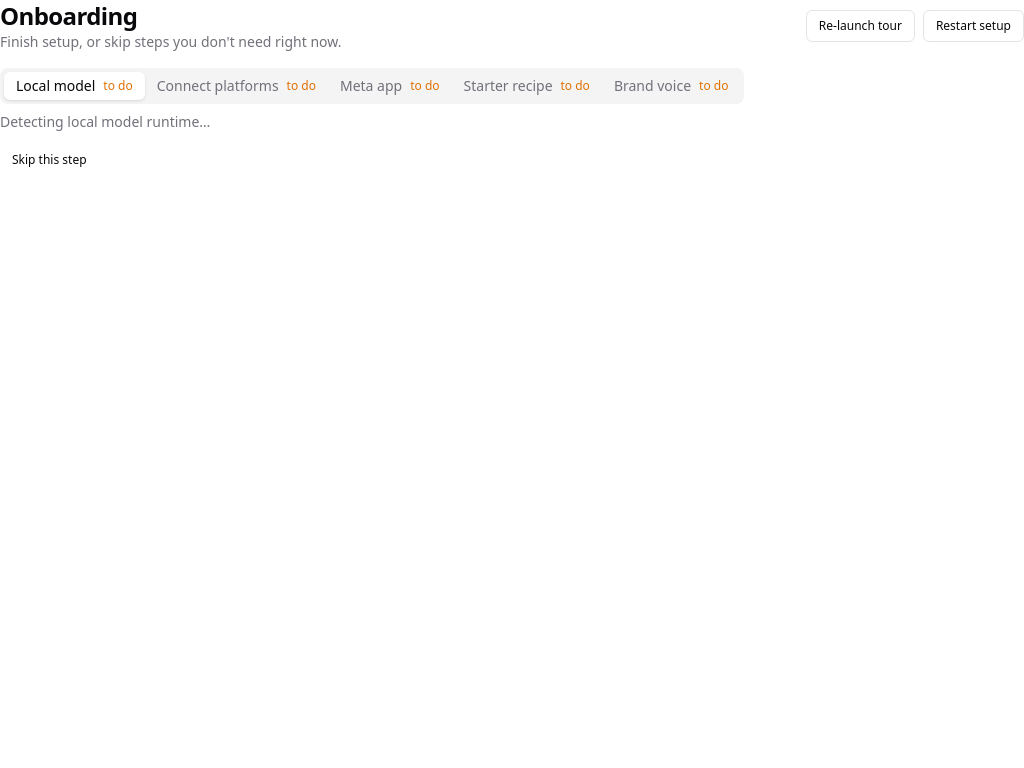
OnboardingPanel › re-renders a dismissed tour overlay after re-launching the tour
Click the button "Re-launch tour" at (860, 26), box [806,10,915,42]
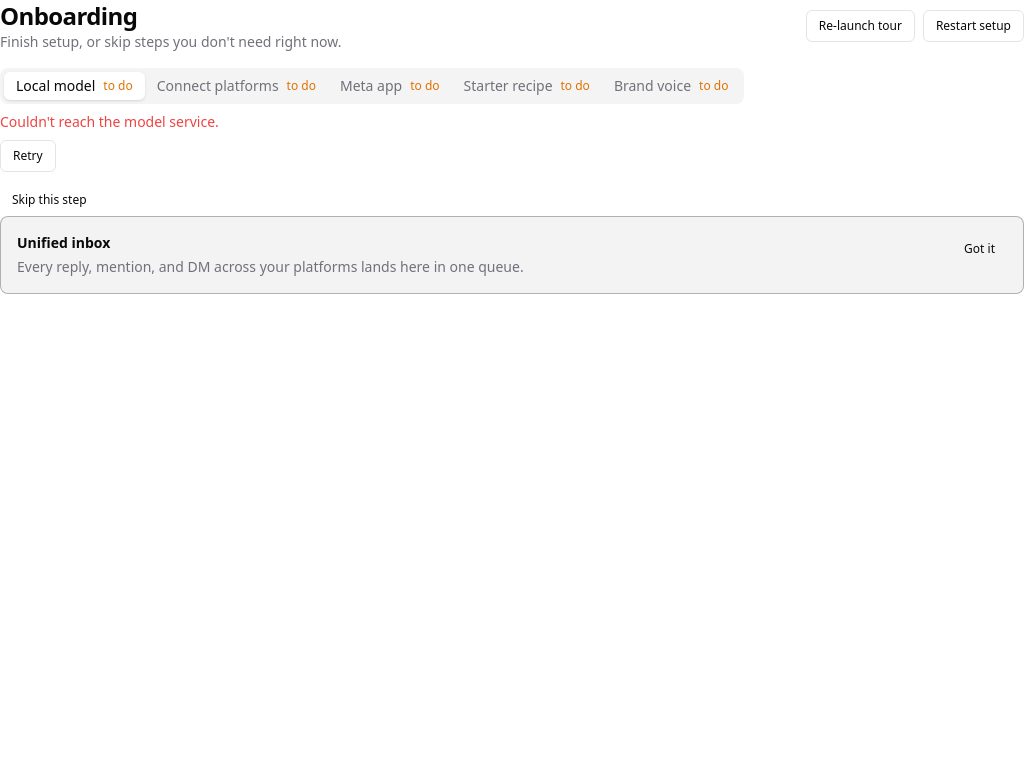
Result: the dialog named "inbox tour" is shown at [0,216,1023,294]
